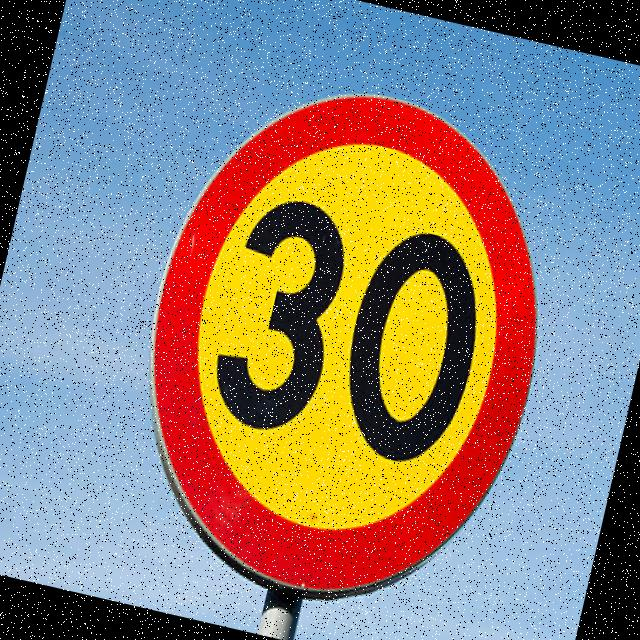speed_limit_30: (94, 55, 601, 640)
